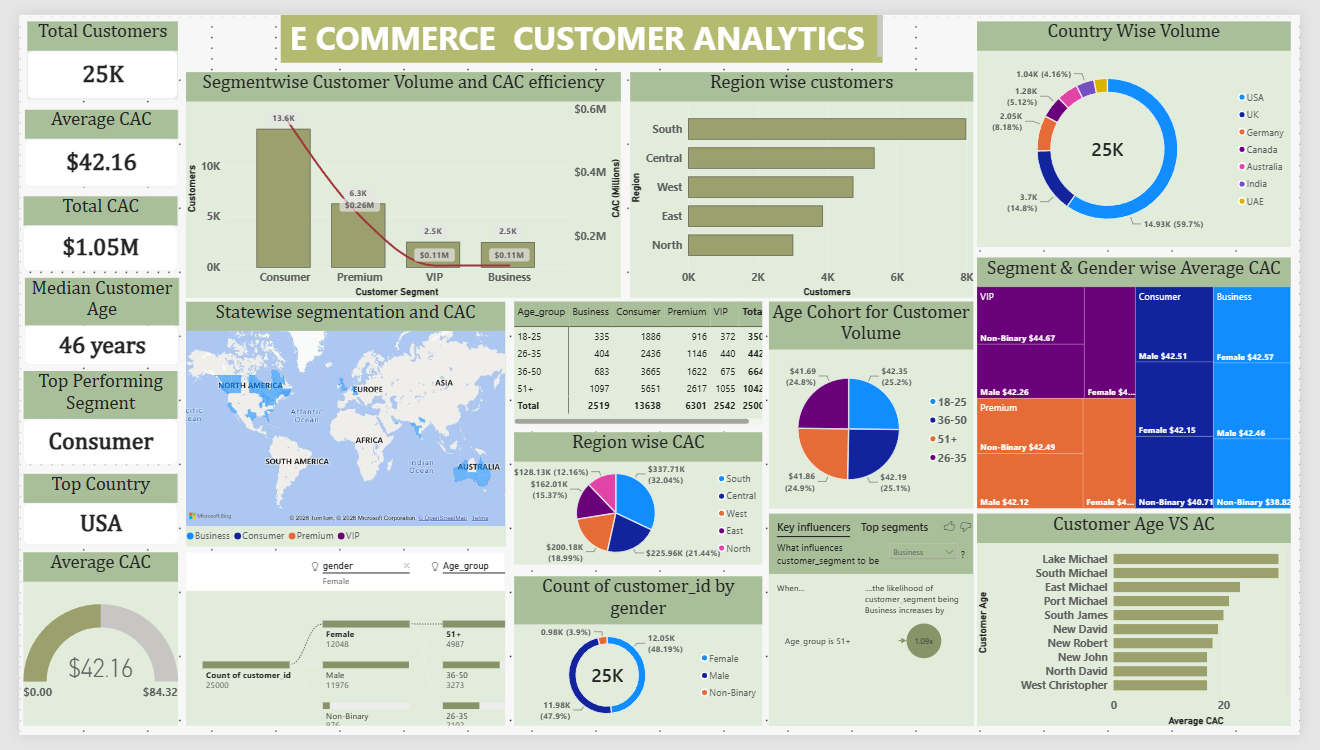

The dashboard page shown, as its layout file describes it:
{"tool":"powerbi","page":{"name":"Page 1","canvas":[1920,1080],"ordinal":0},"visuals":[{"type":"cardVisual","title":"Total Customers","fields":{"Data":["Count(customer_master.customer_id)"]},"box":[11.3,9.4,225.9,116.7],"z":0},{"type":"cardVisual","title":"Average CAC","fields":{"Data":["customer_master.avg_CAC"]},"box":[7.5,141.2,229.6,116.7],"z":1000},{"type":"cardVisual","title":"Total CAC","fields":{"Data":["customer_master.total_CAC"]},"box":[5.6,272.9,231.5,112.9],"z":2000},{"type":"cardVisual","title":"Median Customer Age ","fields":{"Data":["customer_master.median_age"]},"box":[7.5,393.4,231.5,131.8],"z":3000},{"type":"cardVisual","title":"Top Performing Segment","fields":{"Data":["customer_master.Top_Customer_Segment"]},"box":[5.6,534.6,231.5,141.2],"z":4000},{"type":"cardVisual","title":"Top Country","fields":{"Data":["customer_master.top_country"]},"box":[5.6,687.1,231.5,107.3],"z":5000},{"type":"lineClusteredColumnComboChart","title":"Segmentwise Customer Volume  and CAC  efficiency ","fields":{"Category":["customer_master.customer_segment"],"Y":["CountNonNull(customer_master.customer_id)"],"Y2":["Sum(customer_master.customer_acquisition_cost)"]},"box":[250,86,652,338],"z":6000},{"type":"clusteredBarChart","title":"Region wise customers ","fields":{"Category":["customer_master.region"],"Y":["CountNonNull(customer_master.customer_id)"]},"box":[916,86,514,338],"z":7000},{"type":"clusteredBarChart","title":"Customer Age VS AC","fields":{"Category":["customer_master.customer_city"],"Y":["CountNonNull(customer_master.customer_id)"]},"box":[1436,748,470,318],"z":8000},{"type":"pieChart","title":"Age Cohort for Customer Volume ","fields":{"Category":["customer_master.Age_group"],"Y":["Median(customer_master.customer_acquisition_cost)"]},"box":[1124,430,306,310],"z":9000},{"type":"filledMap","title":"Statewise segmentation and CAC","fields":{"Category":["customer_master.customer_state"],"Series":["customer_master.customer_segment"]},"box":[250,430,478,366],"z":10000},{"type":"treemap","title":"Segment & Gender wise Average CAC ","fields":{"Details":["customer_master.gender"],"Group":["customer_master.customer_segment"],"Values":["Avg(customer_master.customer_acquisition_cost)"]},"box":[1436,364,470,376],"z":11000},{"type":"pivotTable","fields":{"Columns":["customer_master.customer_segment"],"Rows":["customer_master.Age_group"],"Values":["Count(customer_master.customer_id)"]},"box":[742,430,372,184],"z":12000},{"type":"donutChart","title":"Country Wise Volume","fields":{"Category":["customer_master.customer_country"],"Y":["CountNonNull(customer_master.customer_country)"]},"box":[1436,10,470,338],"z":13000},{"type":"decompositionTreeVisual","fields":{"Analyze":["Count(customer_master.customer_id)"],"ExplainBy":["customer_master.gender","customer_master.Age_group"]},"box":[250,806,478,260],"z":14000},{"type":"textbox","box":[392,0,902,72],"z":15000},{"type":"gauge","title":"Average CAC","fields":{"Y":["customer_master.avg_CAC"]},"box":[6,806,232,260],"z":16000},{"type":"donutChart","fields":{"Category":["customer_master.gender"],"Y":["CountNonNull(customer_master.customer_id)"]},"box":[742,842,372,224],"z":17000},{"type":"pieChart","title":"Region wise CAC","fields":{"Category":["customer_master.region"],"Y":["Sum(customer_master.customer_acquisition_cost)"]},"box":[742,626,372,198],"z":18000},{"type":"keyDriversVisual","fields":{"ExplainBy":["customer_master.gender","customer_master.region","Sum(customer_master.customer_acquisition_cost)","customer_master.Age_group"],"Target":["customer_master.customer_segment"]},"box":[1124,748,306,318],"z":19000}]}

Visuals, with their boxes in screenshot pixels (x1, y1, x2, y2), scaled from the page's 1920x1080 canvas onto the 1320x750 screenshot:
"Total Customers" cardVisual: 8 7 163 88
"Average CAC" cardVisual: 5 98 163 179
"Total CAC" cardVisual: 4 190 163 268
"Median Customer Age " cardVisual: 5 273 164 365
"Top Performing Segment" cardVisual: 4 371 163 469
"Top Country" cardVisual: 4 477 163 552
"Segmentwise Customer Volume  and CAC  efficiency " lineClusteredColumnComboChart: 172 60 620 294
"Region wise customers " clusteredBarChart: 630 60 983 294
"Customer Age VS AC" clusteredBarChart: 987 519 1310 740
"Age Cohort for Customer Volume " pieChart: 773 299 983 514
"Statewise segmentation and CAC" filledMap: 172 299 500 553
"Segment & Gender wise Average CAC " treemap: 987 253 1310 514
pivotTable - customer_master.customer_segment x customer_master.Age_group: 510 299 766 426
"Country Wise Volume" donutChart: 987 7 1310 242
decompositionTreeVisual - Count(customer_master.customer_id) x customer_master.gender: 172 560 500 740
textbox: 270 0 890 50
"Average CAC" gauge: 4 560 164 740
donutChart - customer_master.gender x CountNonNull(customer_master.customer_id): 510 585 766 740
"Region wise CAC" pieChart: 510 435 766 572
keyDriversVisual - customer_master.gender x customer_master.region: 773 519 983 740
